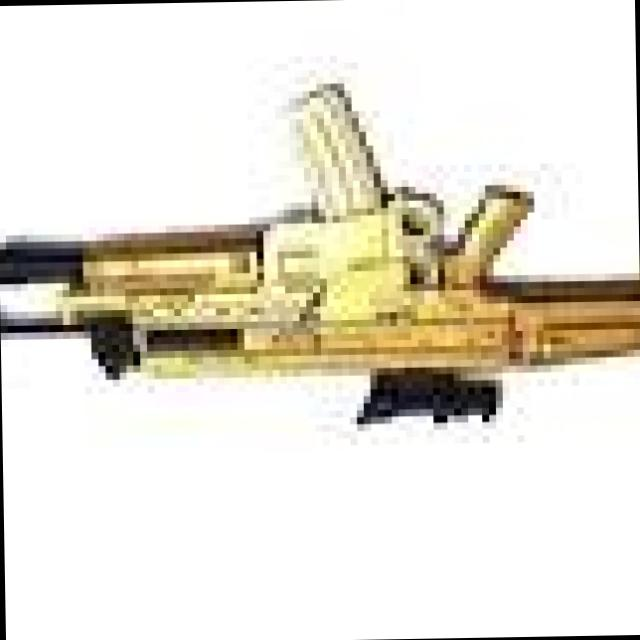Gun: (0, 57, 640, 444)
